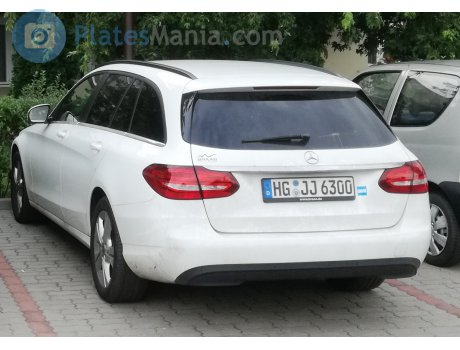License Plates: (268, 177, 353, 194)
